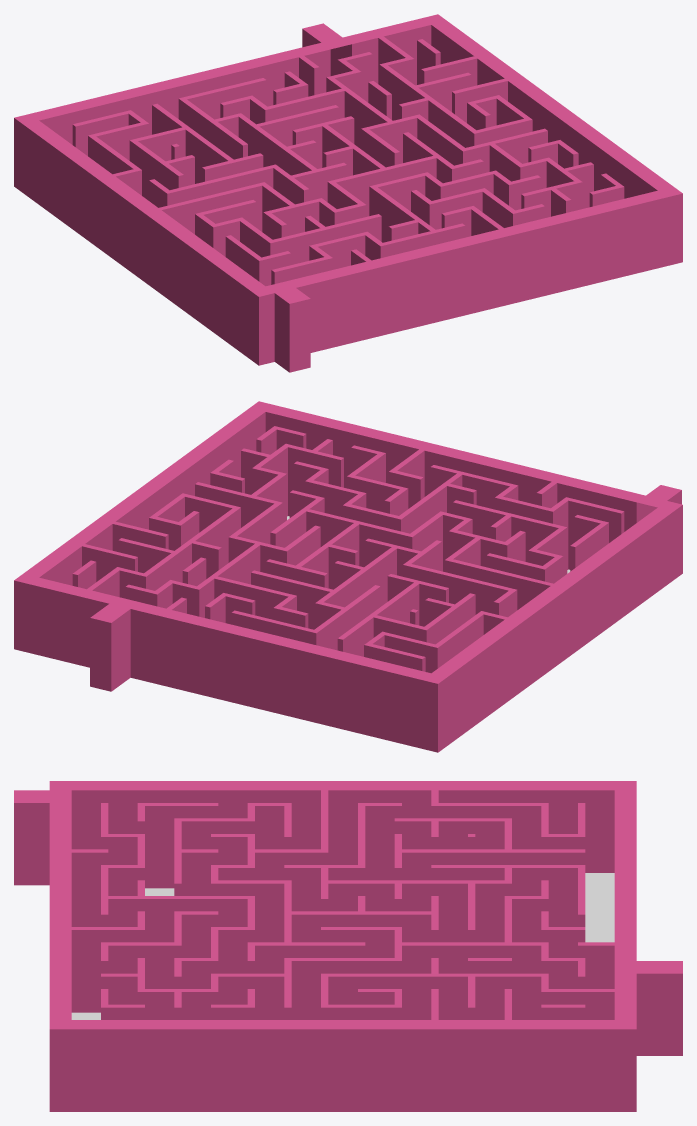
The model's file is Maze.glb.
The picture shows the model from 3 angles, top to bottom: view 1: azimuth 30°, elevation 25°; view 2: azimuth 150°, elevation 25°; view 3: azimuth 270°, elevation 25°; orthographic projection. The views are drawn at different scales.
Parts seen in each view (by area): view 1: Plane; view 2: Plane; view 3: Plane.
Boxes of the visible parts, x1=… form: Plane: x1=14, y1=14, x2=682, y2=372; Plane: x1=14, y1=401, x2=682, y2=752; Plane: x1=14, y1=781, x2=682, y2=1111.
Bounding box in the file's own units: 2 × 0.31 × 2.28.
